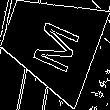M_W: (21, 11, 79, 73)
